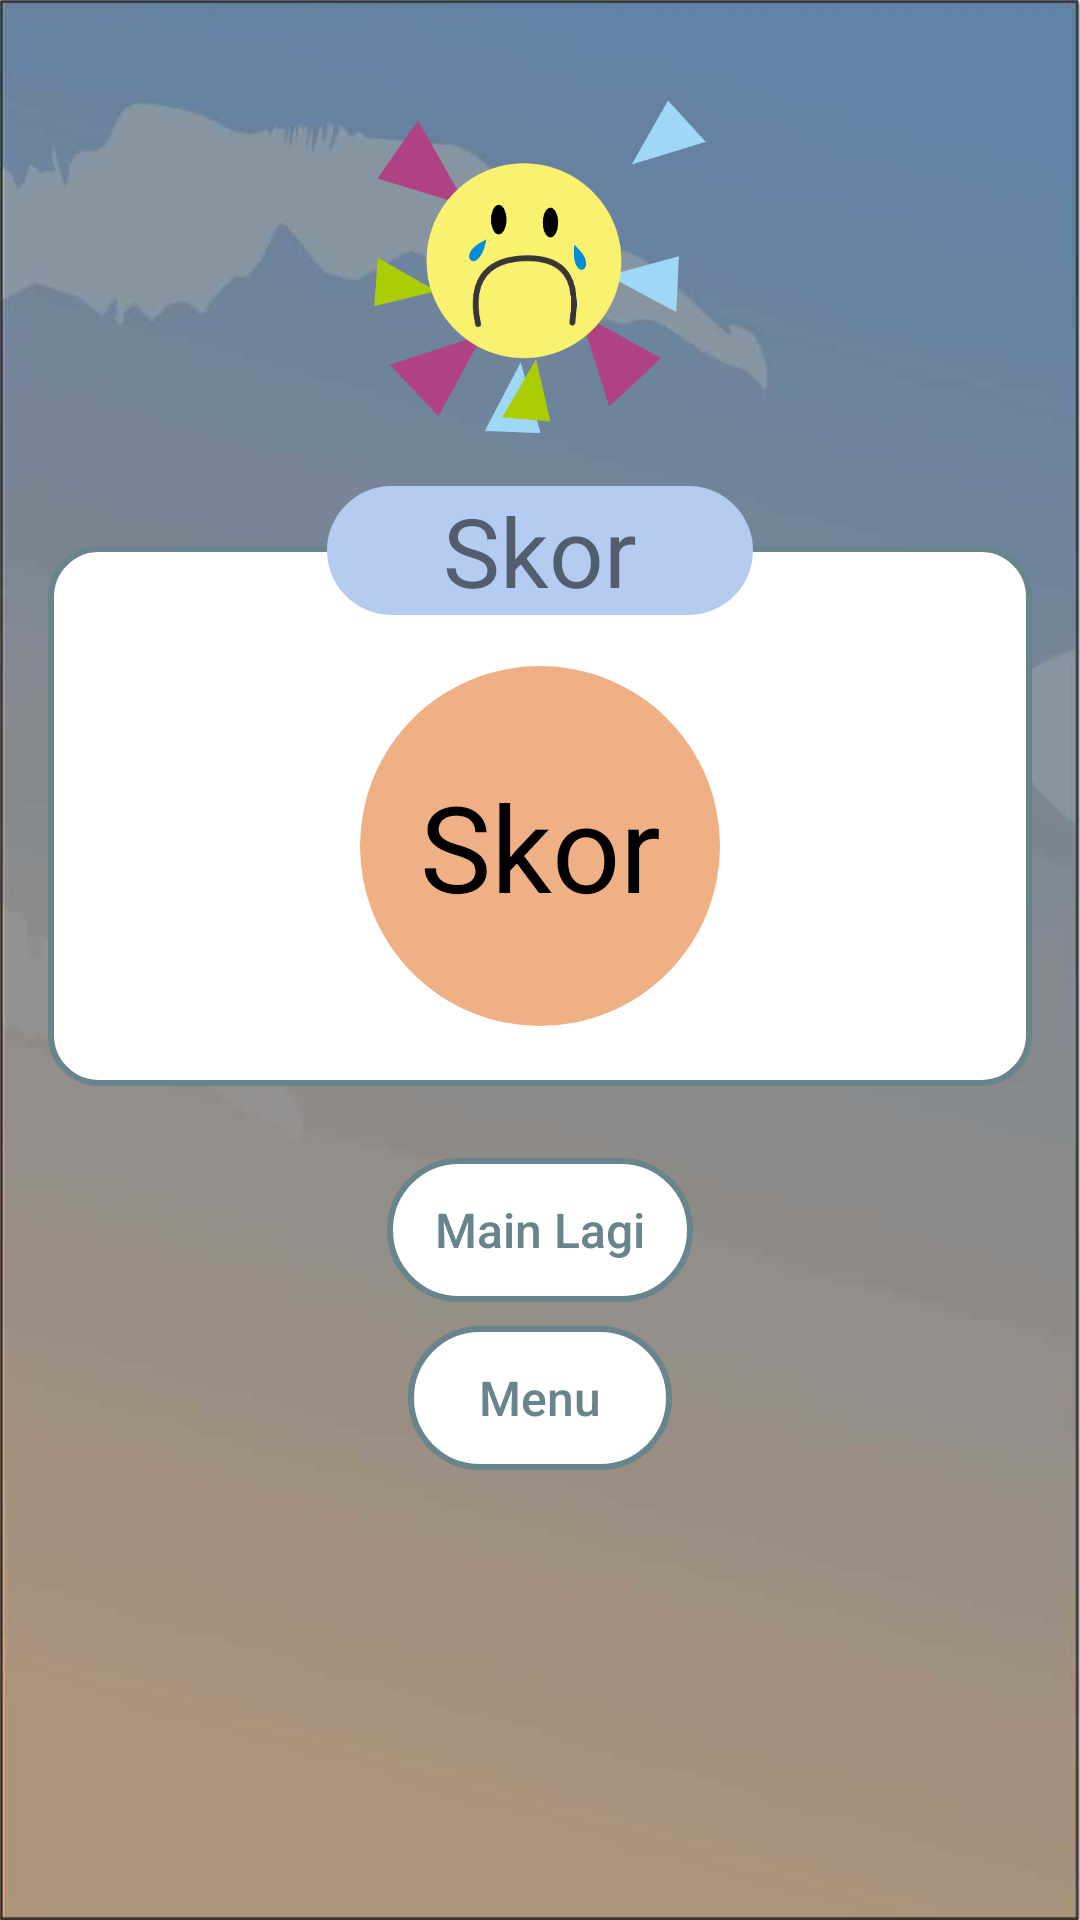

Icons on this 1080w x 1920h Android screen, each with its box as (x1, y1, x2, y2):
emoticon cry: (369, 101, 711, 433)
